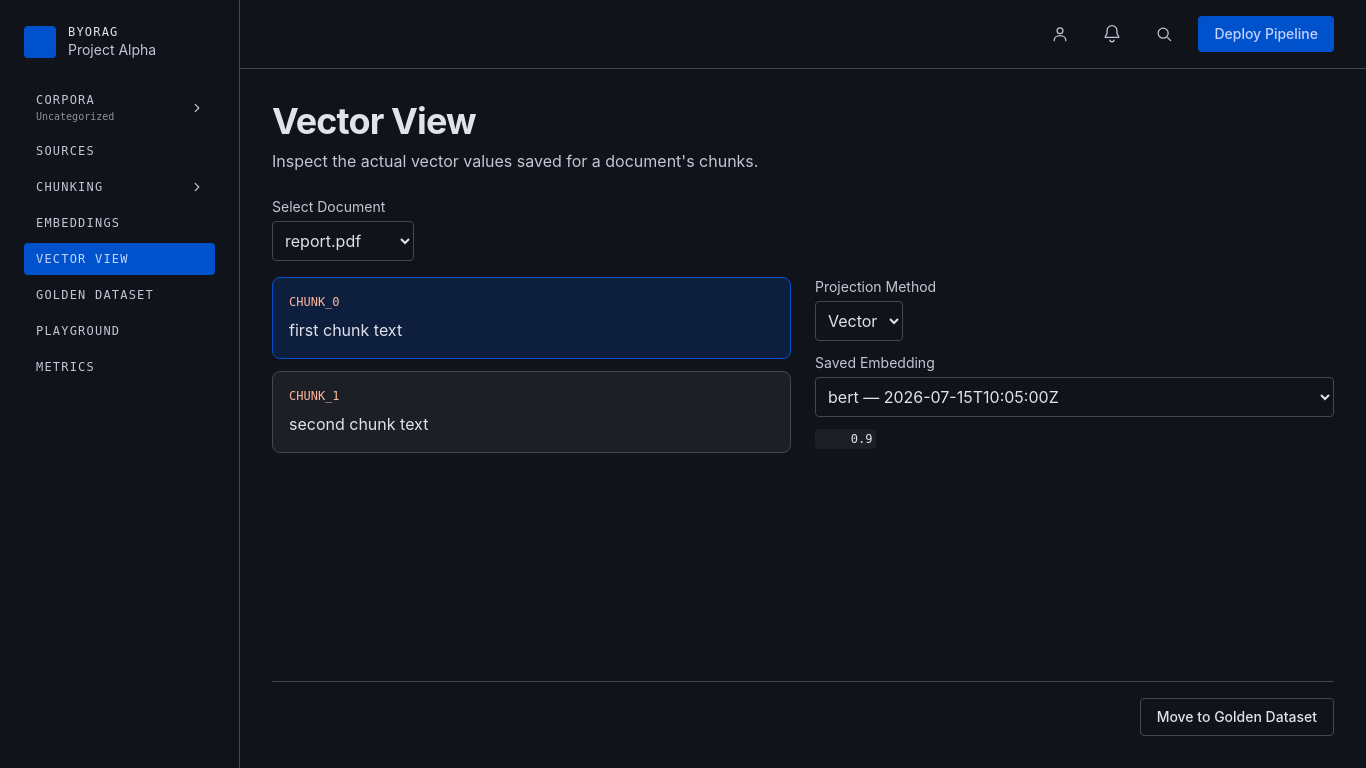
Test: VectorViewScreen — two-pane chunk browsing and vector display (014-vector-view-screen US2) › offers a picker when a chunk has more than one saved embedding, defaulting to the newest, and shows only the chosen one
expect the text "0.9" is shown: met, box [815,429,876,449]
expect the text "0.1" is not shown: met
Select "bert — 2026-07-15T10:03:00Z" in the dropdown labelled "Saved Embedding" at (1074, 397), box [815,377,1334,417]
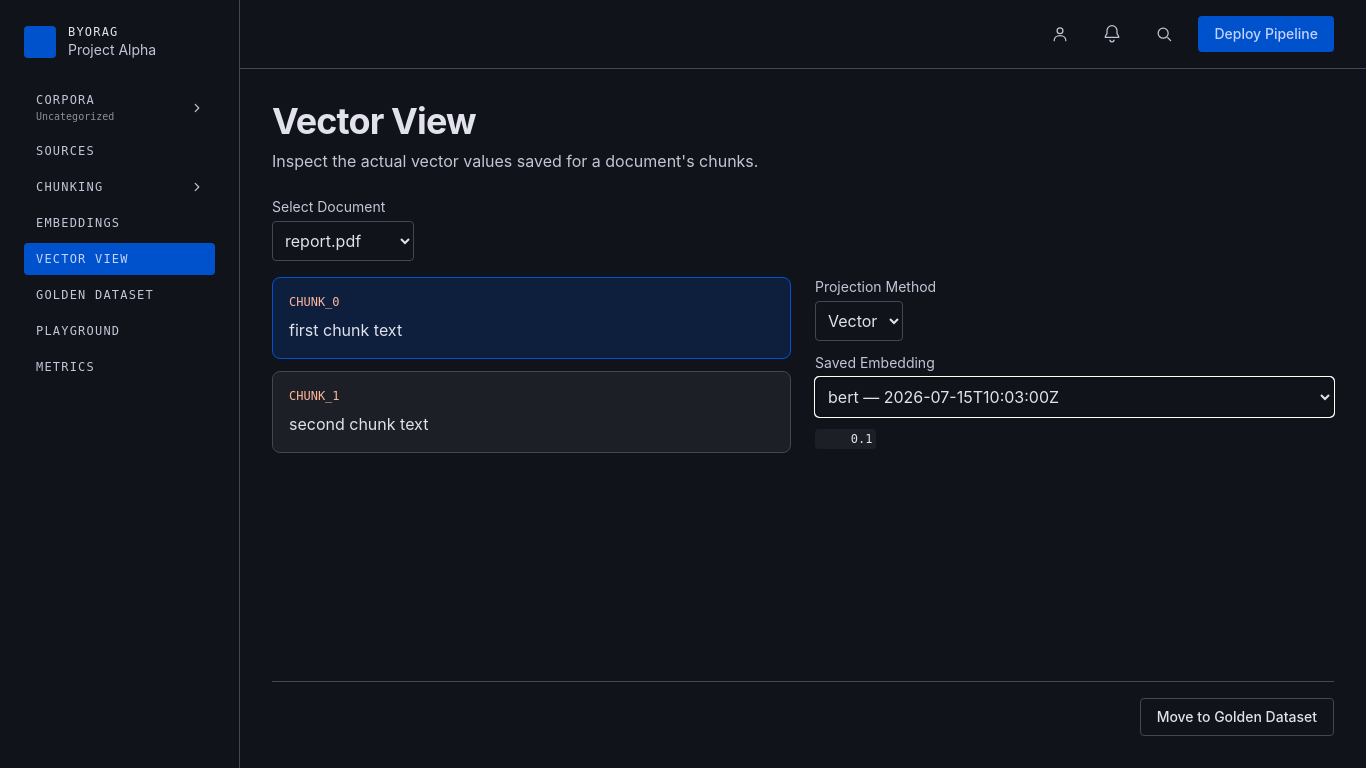
expect the text "0.1" is shown: met, box [815,429,876,449]
expect the text "0.9" is gone: met
